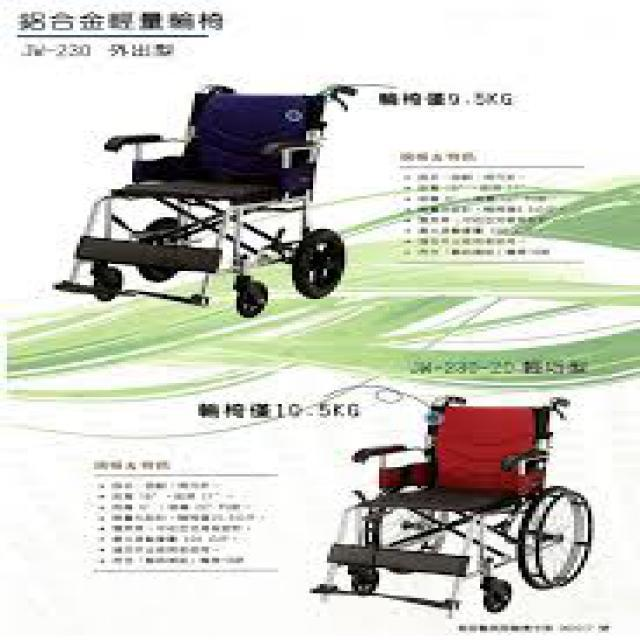wheelchair: (38, 66, 376, 316), (299, 388, 612, 616)
